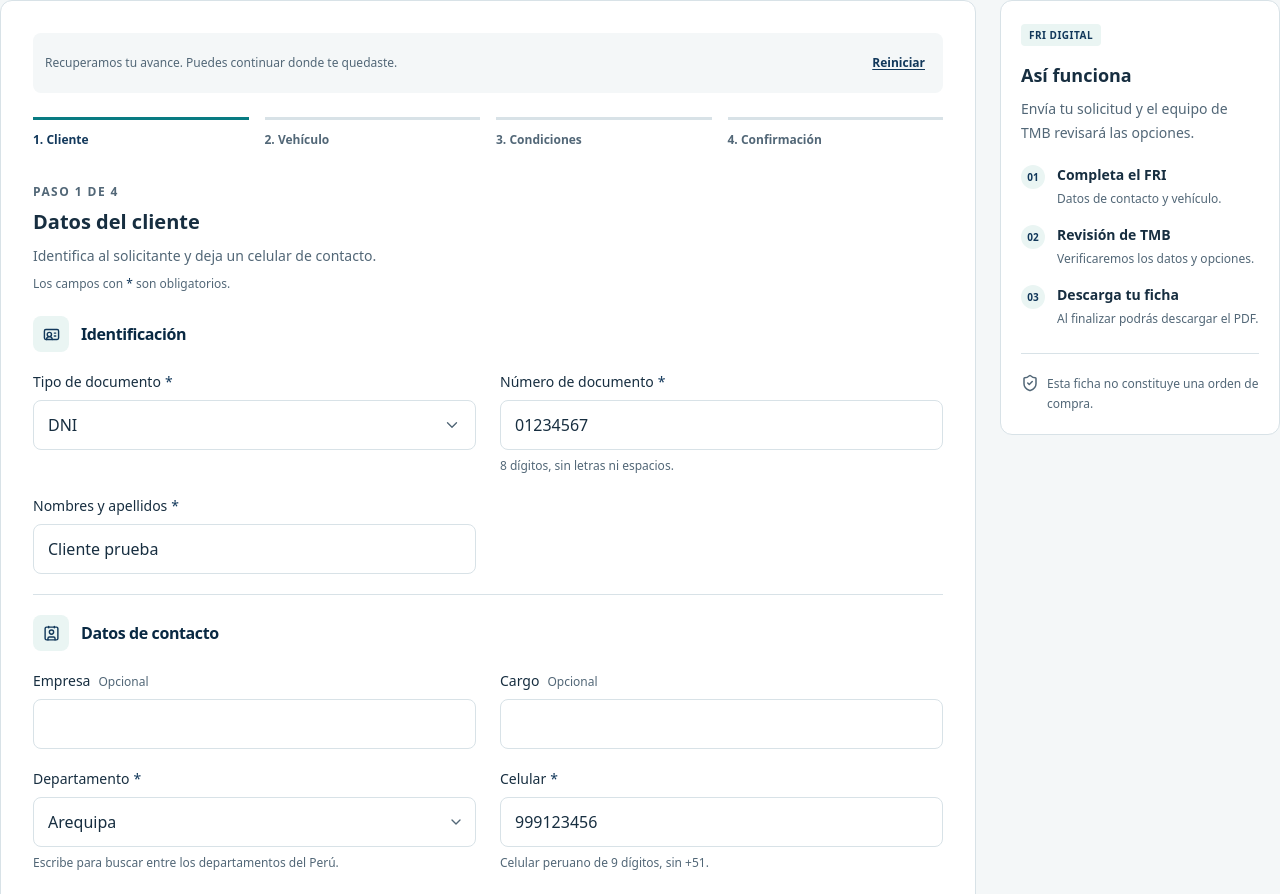
Scenario: Flujo público FRI › permite cancelar el reinicio sin borrar datos y exige confirmar para borrarlos
This screenshot has width=1280, height=894.
Click the button "Reiniciar" at (899, 63), box 866,45 -> 931,81
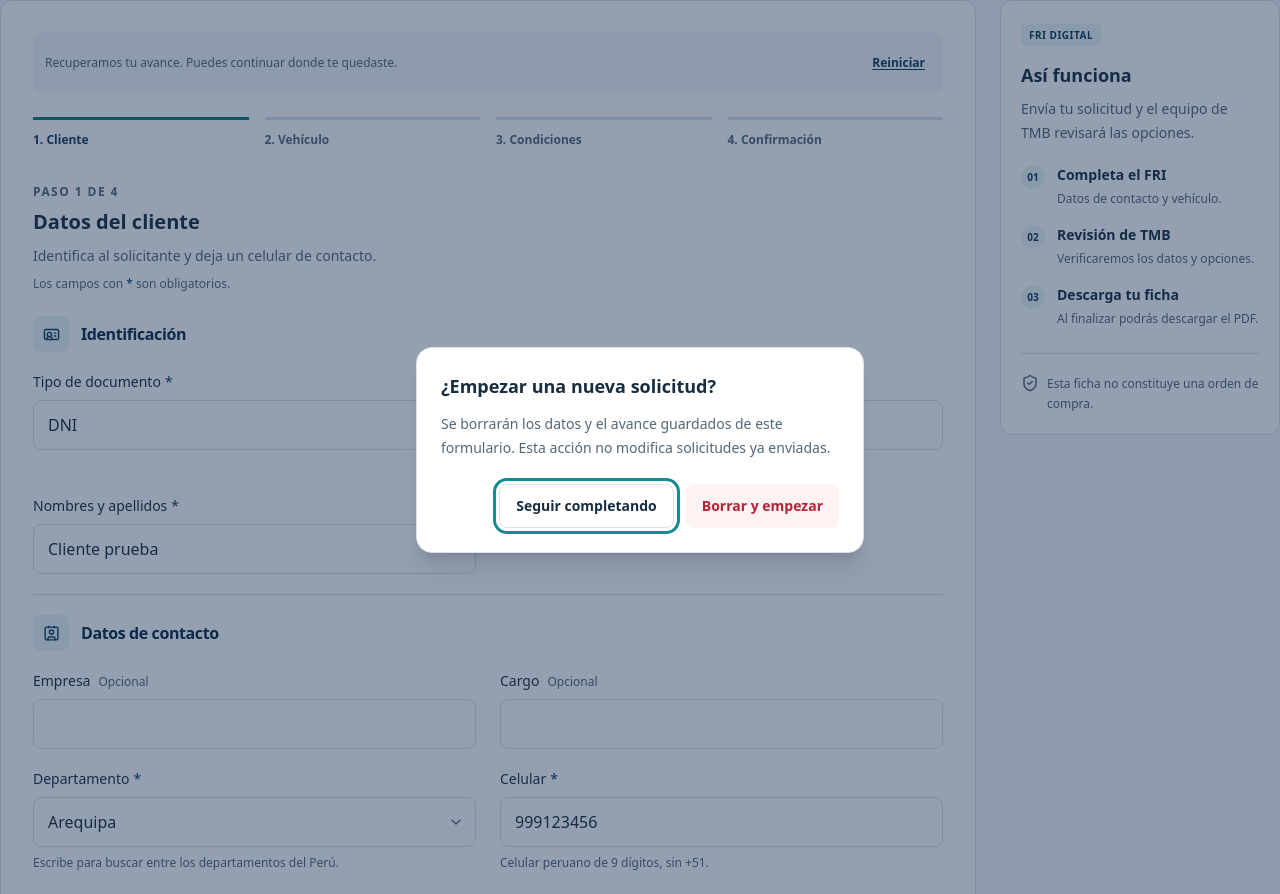
Click the button "Seguir completando" at (586, 506), box 499,484 -> 674,528
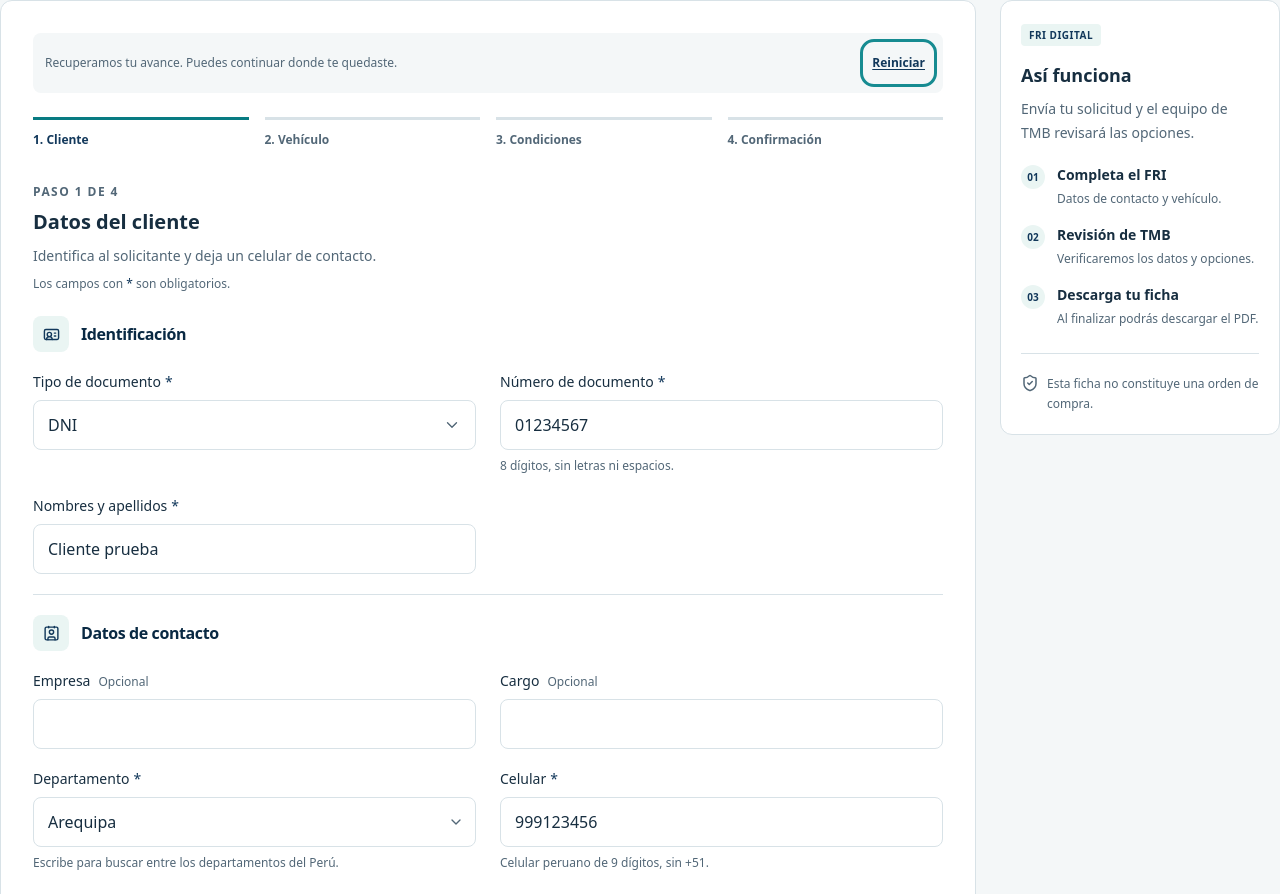
Expected: the field labelled "Número de documento*" holds "01234567", 500,400 -> 943,450
Click the button "Reiniciar" at (899, 63), box 866,45 -> 931,81
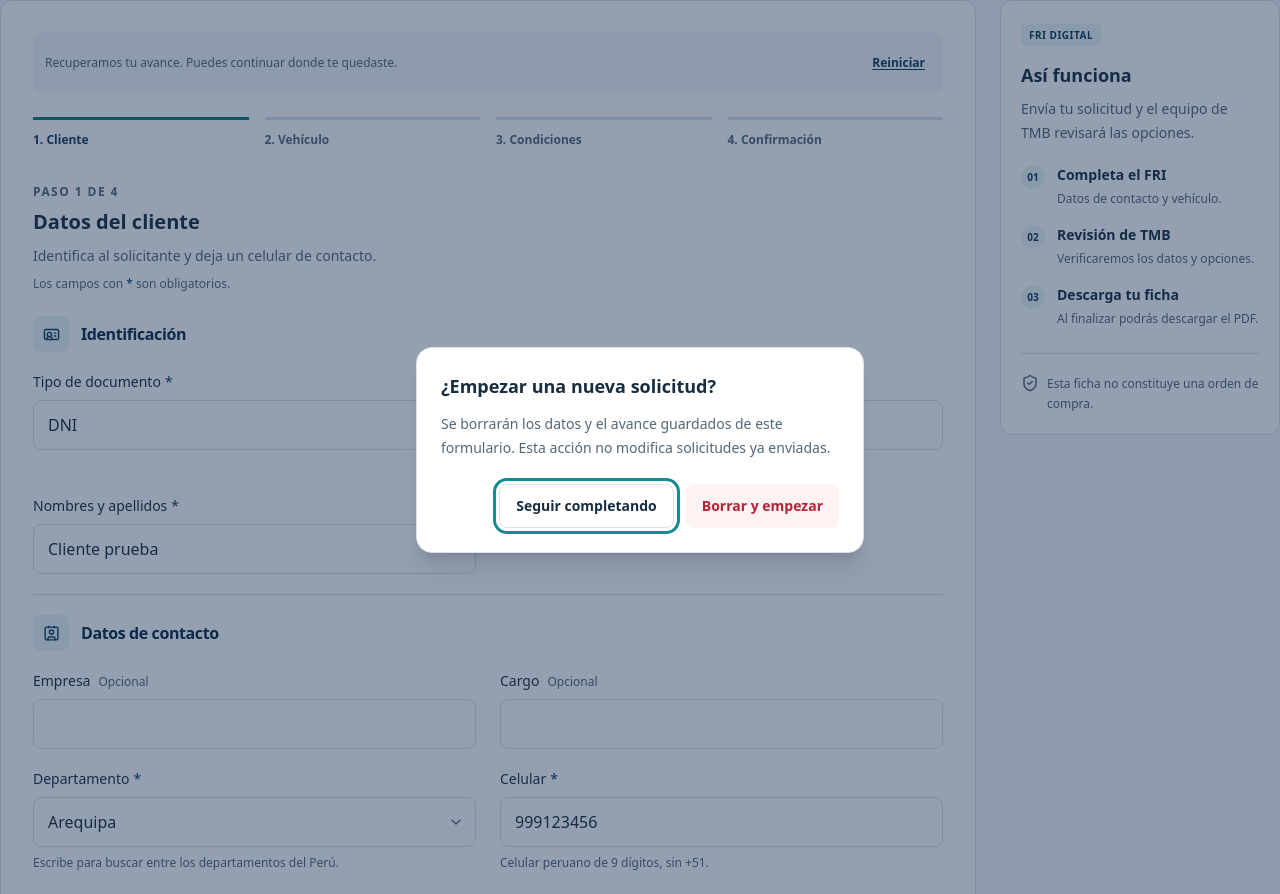
Click the button "Borrar y empezar" at (762, 506), box 686,484 -> 839,528
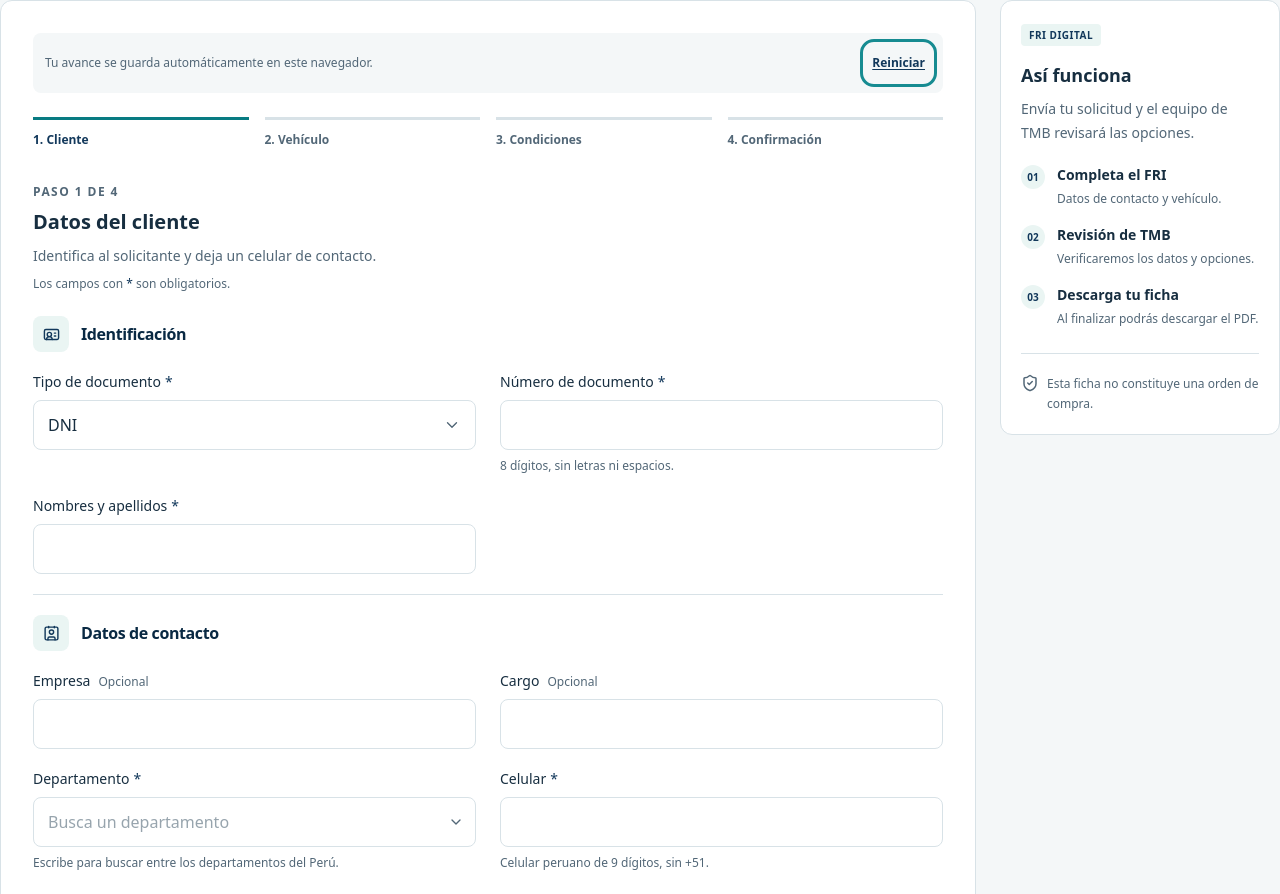
Result: the field labelled "Número de documento*" is empty at 500,400 -> 943,450
